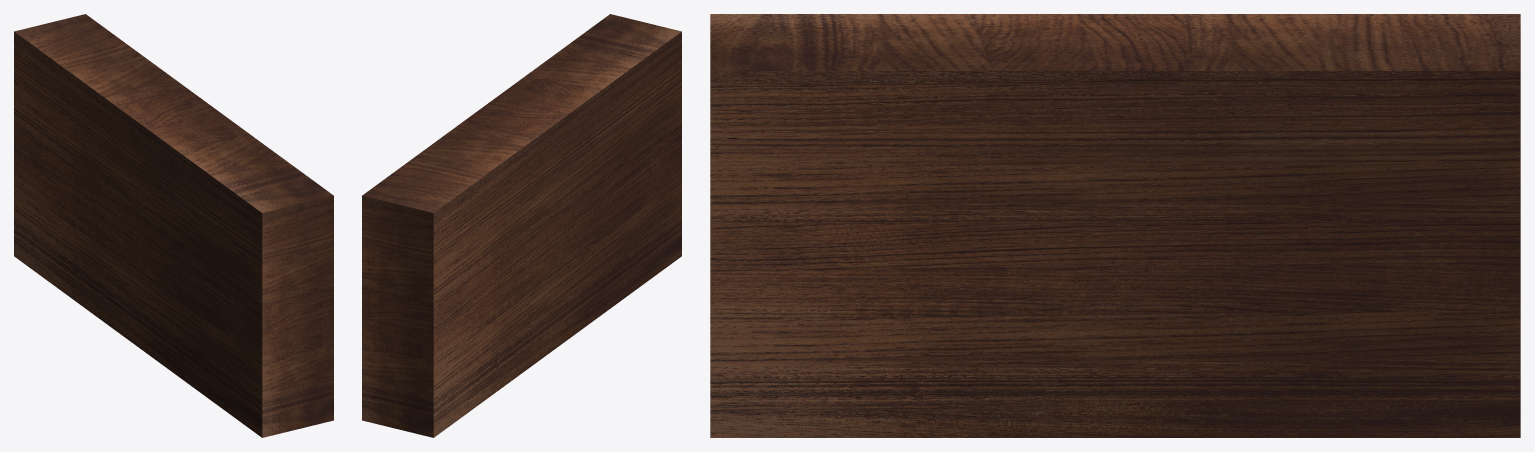
The model's file is WoodBarrier.fbx.
3 views of the same model, side by side, from view 1: azimuth 30°, elevation 25°; view 2: azimuth 150°, elevation 25°; view 3: azimuth 270°, elevation 25° (orthographic). The views are drawn at different scales.
Visible parts, largest first — view 1: WoodBarrier; view 2: WoodBarrier; view 3: WoodBarrier.
Part boxes in pixels (bbox=[...]): WoodBarrier: bbox=[14, 14, 333, 437]; WoodBarrier: bbox=[362, 14, 681, 437]; WoodBarrier: bbox=[710, 14, 1520, 437].
Bounding box in the file's own units: 25 × 74.97 × 150.
